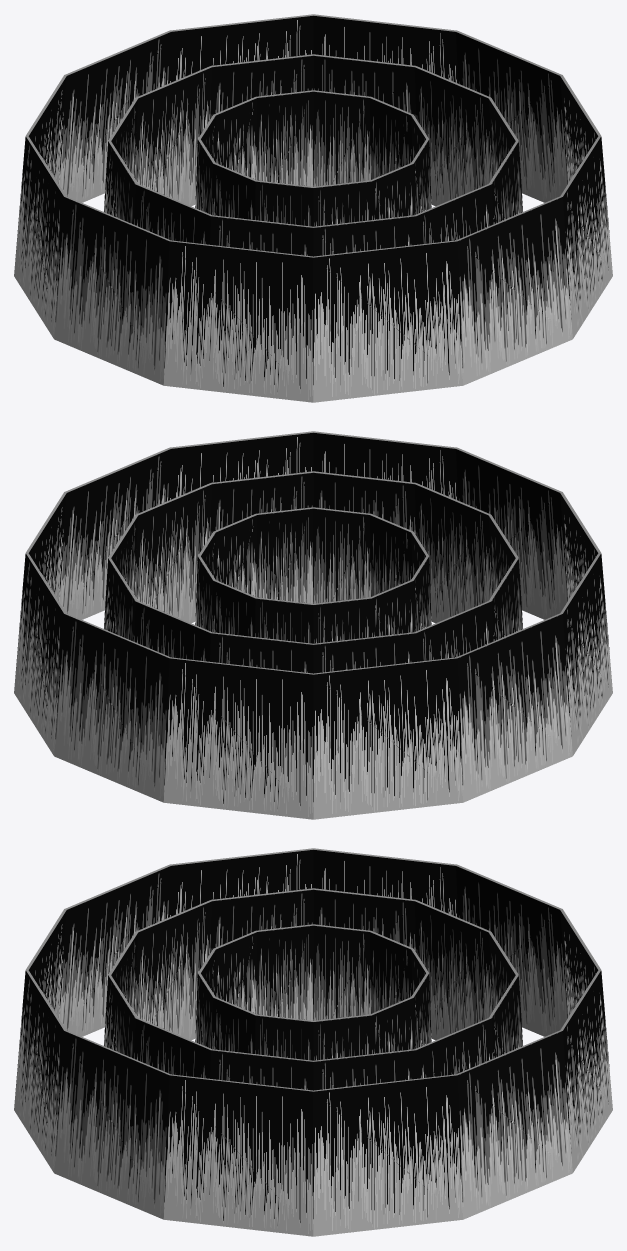
Rendered from Marker.fbx.
3 renders of one model, top to bottom at view 1: azimuth 30°, elevation 25°; view 2: azimuth 150°, elevation 25°; view 3: azimuth 270°, elevation 25°, orthographic.
Visible parts, largest first — view 1: Circle, Circle.001, Circle.002; view 2: Circle, Circle.001, Circle.002; view 3: Circle, Circle.001, Circle.002.
Boxes of the visible parts, bbox=[...] form: Circle: bbox=[14, 14, 612, 402]; Circle.001: bbox=[104, 54, 522, 256]; Circle.002: bbox=[195, 90, 431, 226]; Circle: bbox=[14, 431, 612, 819]; Circle.001: bbox=[104, 471, 522, 673]; Circle.002: bbox=[195, 507, 431, 643]; Circle: bbox=[14, 848, 612, 1236]; Circle.001: bbox=[104, 888, 522, 1090]; Circle.002: bbox=[195, 924, 431, 1060].
Size of the model in its own units: 200 by 51.74 by 200.
